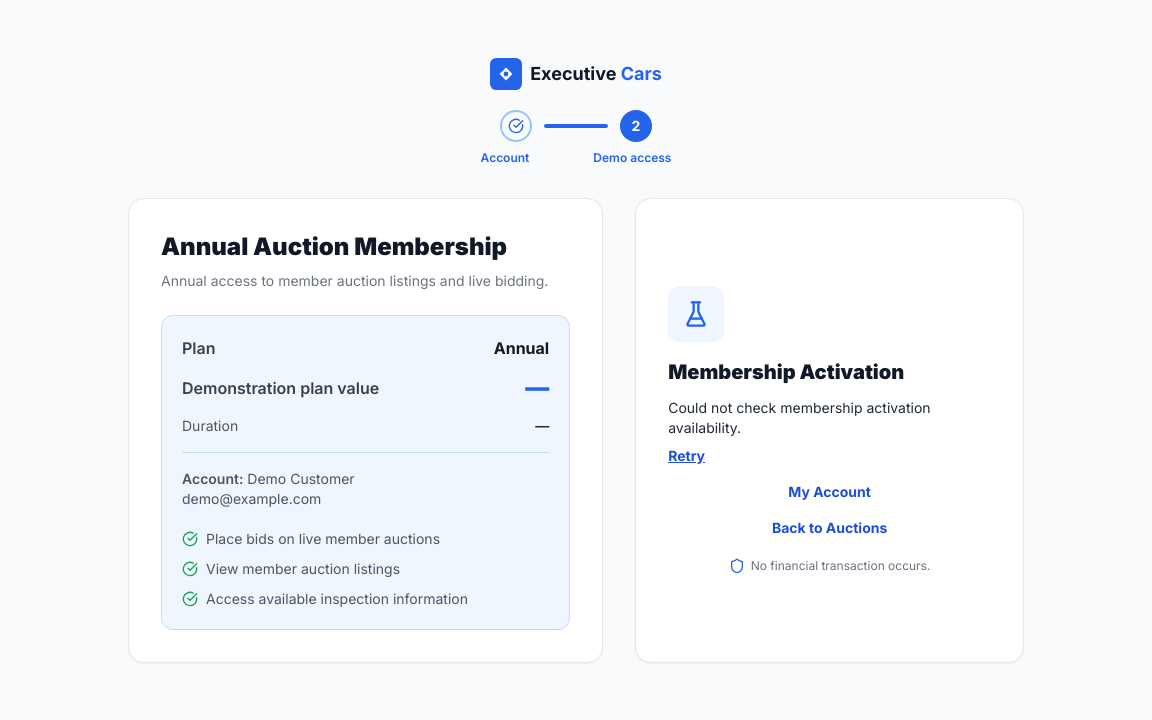
a failed or invalid capability response can be retried without pretending it is disabled
The image size is (1152, 720).
Expected: the message shows "Could not check", x1=668 y1=399 x2=931 y2=436
Click the button "Retry" at (687,456), box x1=668 y1=446 x2=705 y2=466
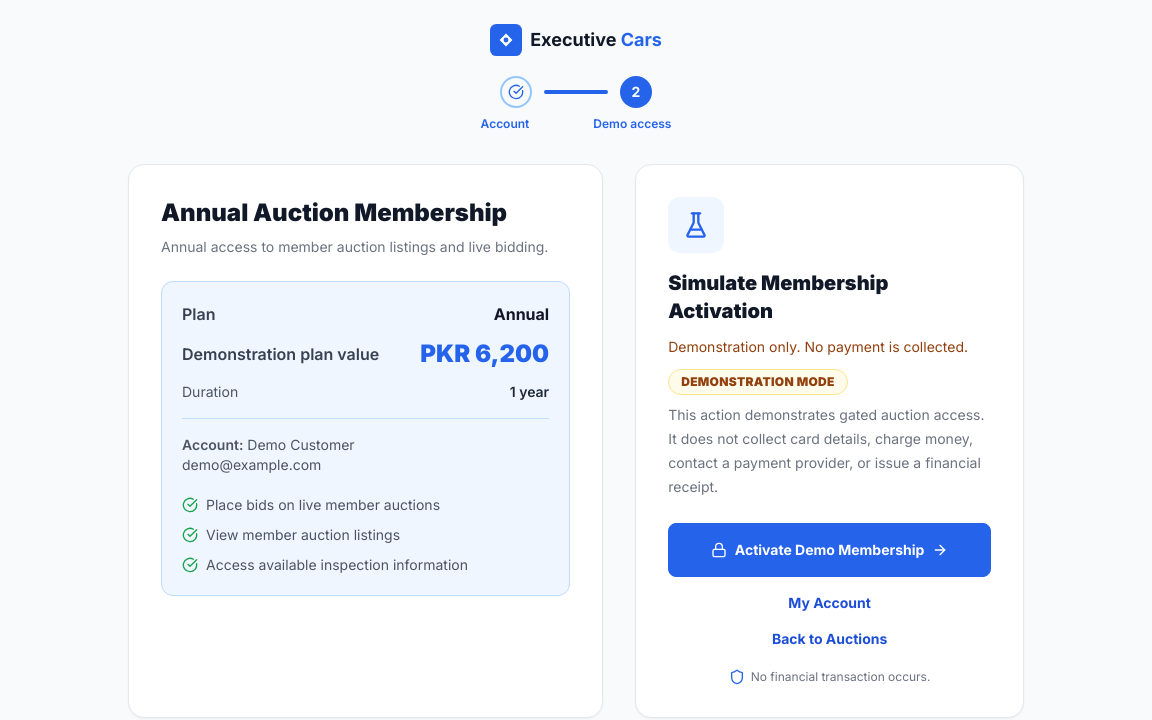
Expected: the button "Activate Demo Membership" is shown, x1=668 y1=523 x2=991 y2=577
